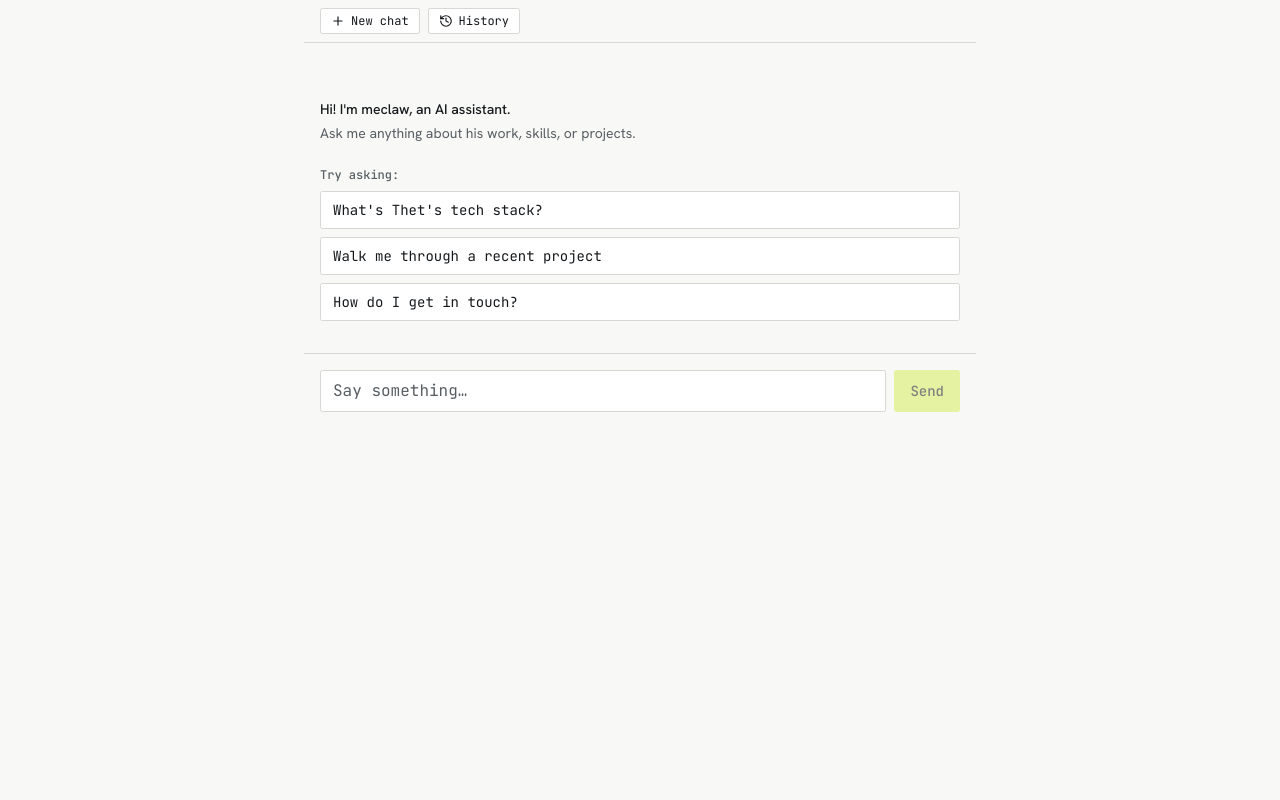
Test: History drawer wiring (normal mode) › removes a non-active conversation from the open drawer, keeping the active one
The width and height of the screenshot is (1280, 800).
Click the button "History": [474, 21] box x1=428 y1=8 x2=520 y2=34
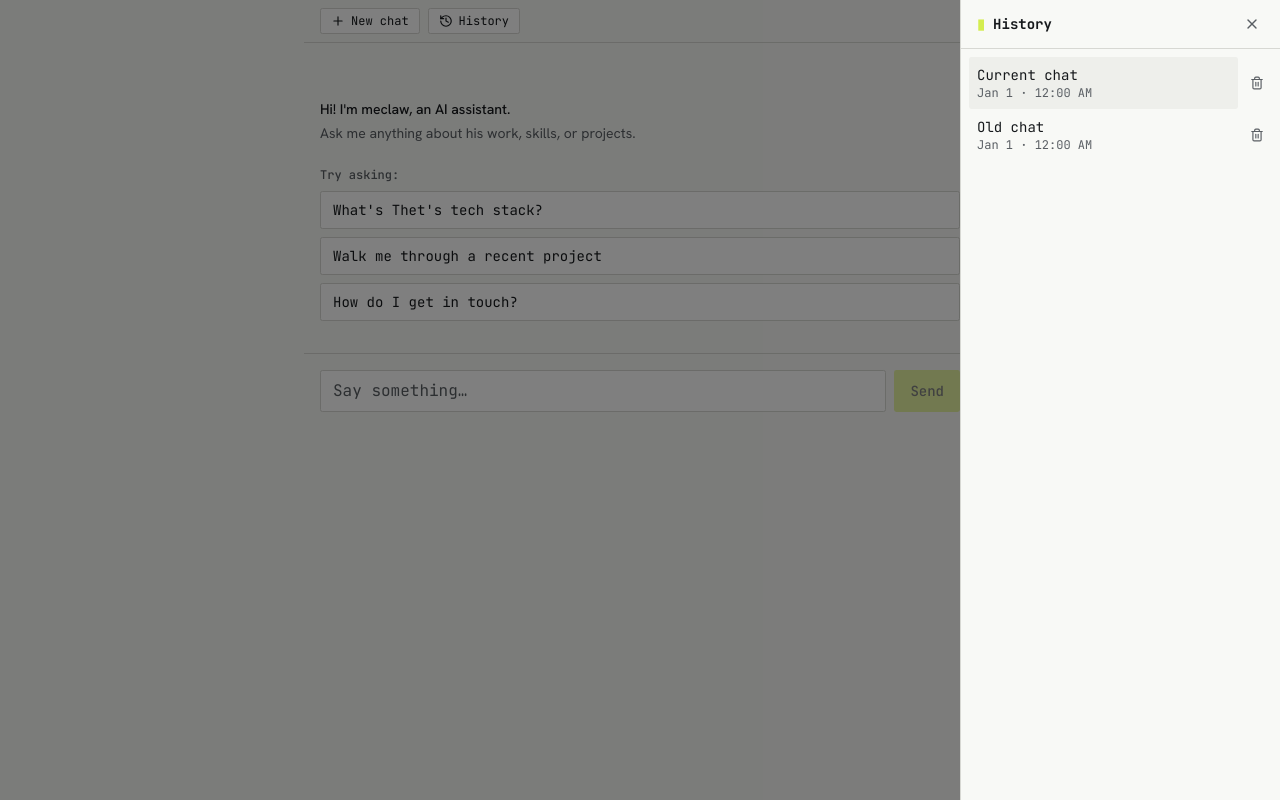
Note: newest-first order: [Current chat, Old chat] — delete the second (non-active) row
Click the 2nd button named "delete conversation": [1257, 135] box x1=1242 y1=120 x2=1272 y2=150
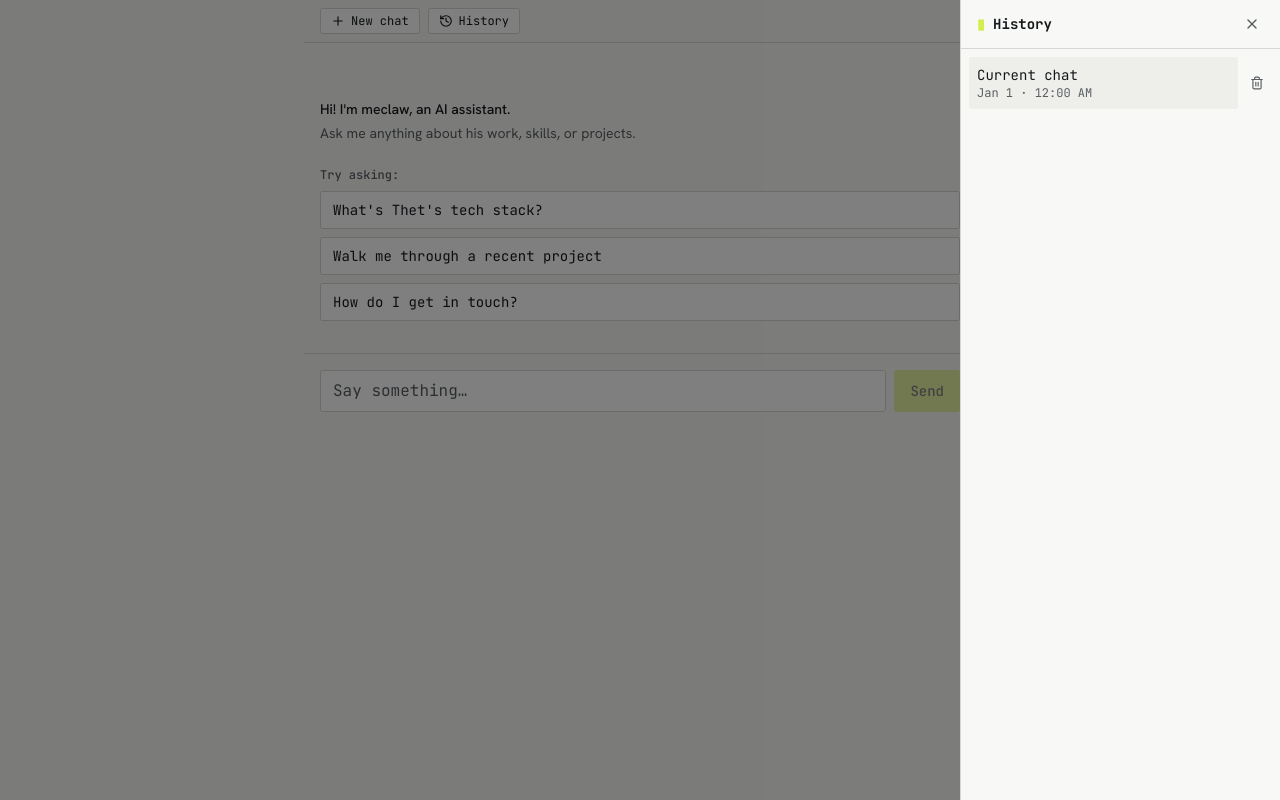
Now the text "Current chat" is shown, box x1=977 y1=66 x2=1078 y2=84
Now the button "Old chat" is gone
